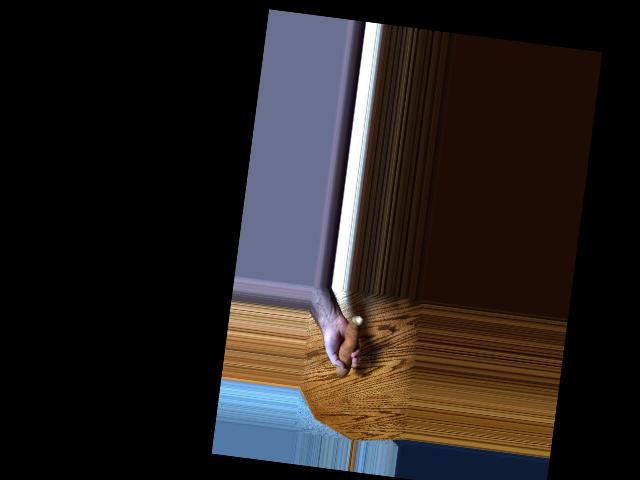sweet_potato: (331, 311, 362, 384)
